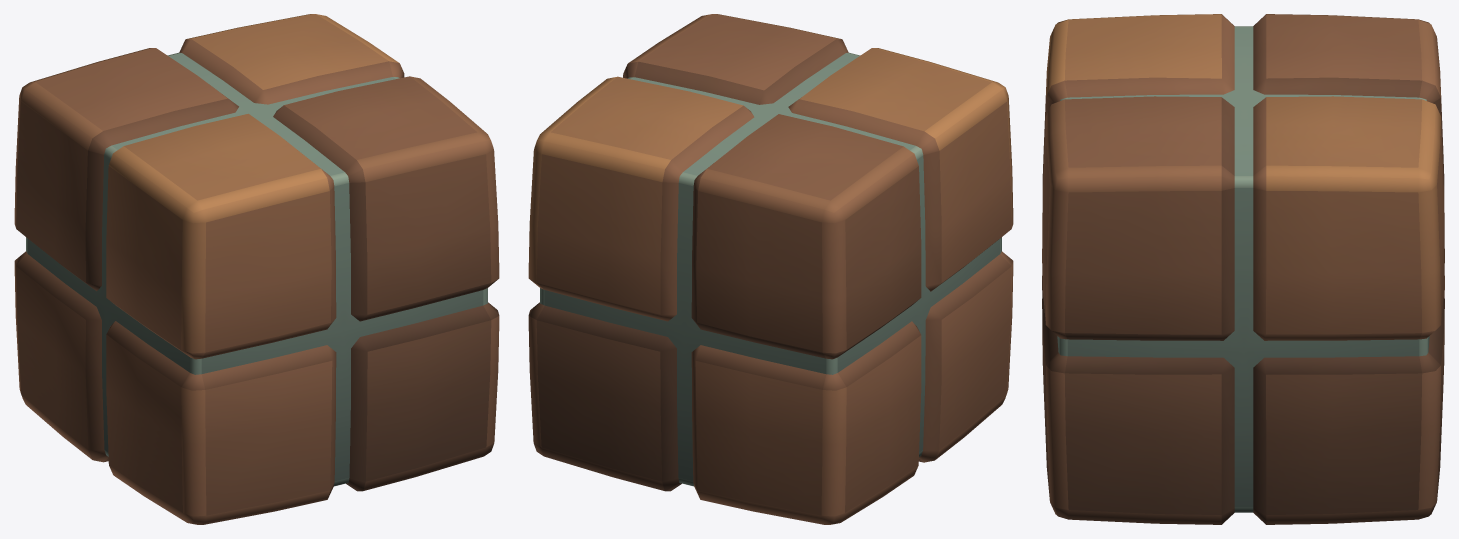
File: block_brick_brown_1.fbx
3 views of the same model, side by side, from view 1: azimuth 30°, elevation 25°; view 2: azimuth 150°, elevation 25°; view 3: azimuth 270°, elevation 25° (orthographic). The views are drawn at different scales.
Parts seen in each view (by area): view 1: block_brick_brown_1_LOD0; view 2: block_brick_brown_1_LOD0; view 3: block_brick_brown_1_LOD0.
Part boxes in pixels (left/top/right/bottom): block_brick_brown_1_LOD0: left=14, top=14, right=499, bottom=524; block_brick_brown_1_LOD0: left=528, top=14, right=1013, bottom=524; block_brick_brown_1_LOD0: left=1042, top=14, right=1444, bottom=524.
Size of what is drawn, in the model's own units: 108 by 108 by 108.
